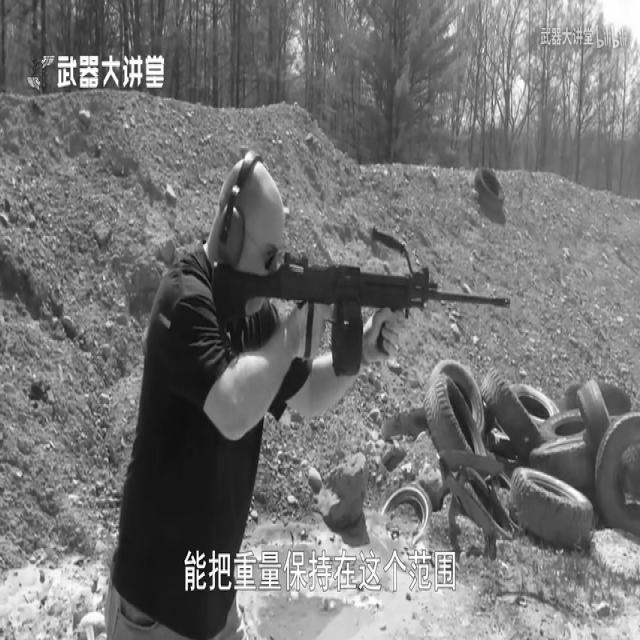Rifle: (189, 228, 524, 402)
